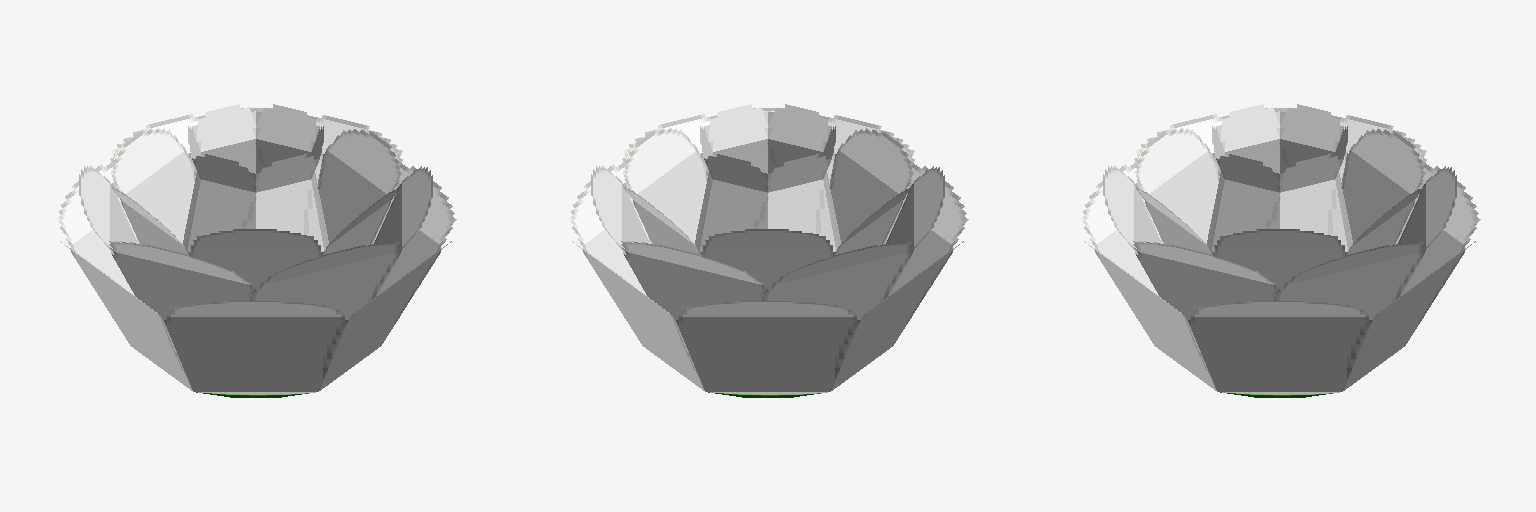
The picture shows the model from 3 angles: view 1: azimuth 30°, elevation 25°; view 2: azimuth 150°, elevation 25°; view 3: azimuth 270°, elevation 25°; orthographic projection.
Parts seen in each view (by area): view 1: flower_Cylinder.003; view 2: flower_Cylinder.003; view 3: flower_Cylinder.003.
Part boxes in pixels (x1,y1,x2,y2): flower_Cylinder.003: (57,104,456,397); flower_Cylinder.003: (569,104,968,397); flower_Cylinder.003: (1081,104,1480,397).
Bounding box in the file's own units: 0.1876 × 0.1224 × 0.2084.
Materials: 1 (1 with a texture image).